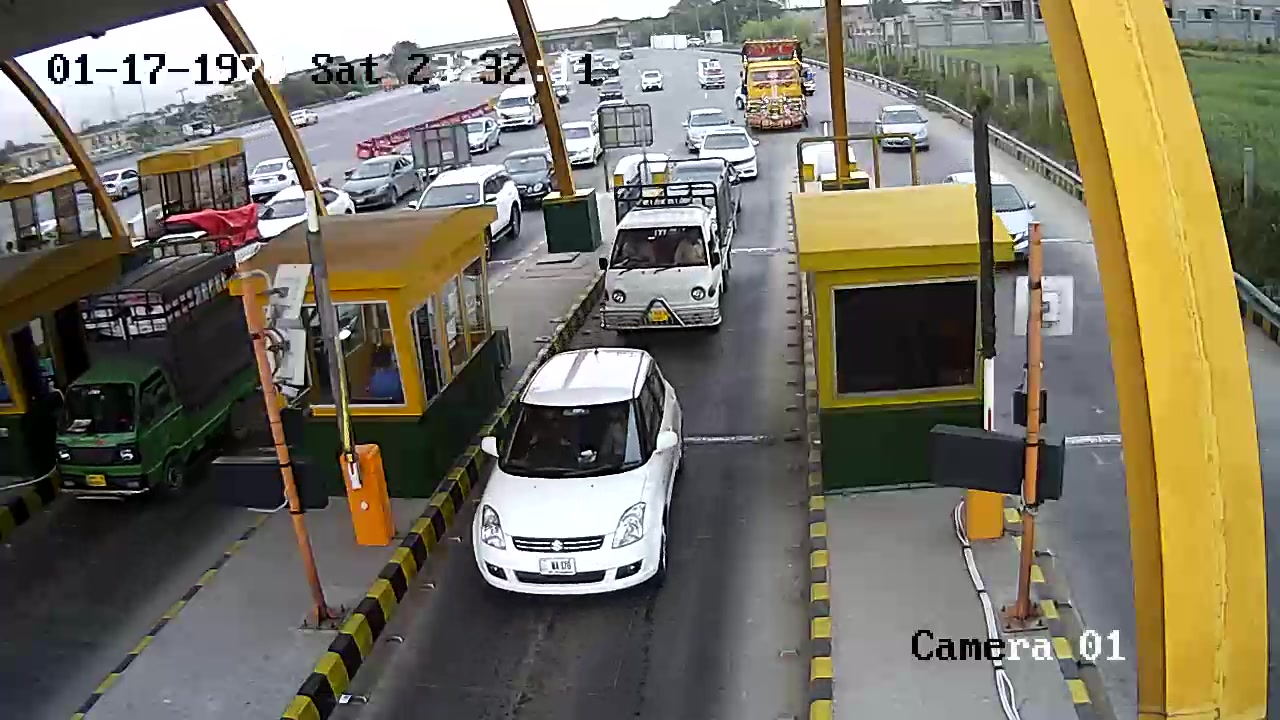F1: (465, 343, 704, 593)
F2: (593, 156, 748, 339)
